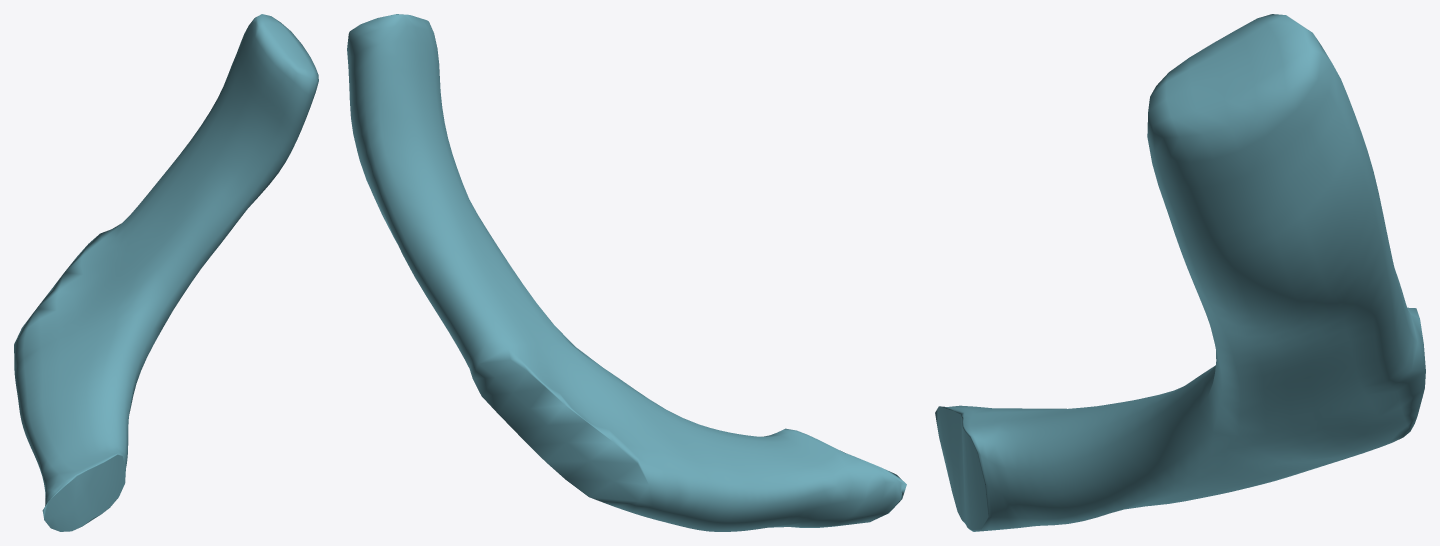
3 views of the same model, side by side, from view 1: azimuth 30°, elevation 25°; view 2: azimuth 150°, elevation 25°; view 3: azimuth 270°, elevation 25° (orthographic). The views are drawn at different scales.
Visible parts, largest first — view 1: 左侧第九肋软骨; view 2: 左侧第九肋软骨; view 3: 左侧第九肋软骨.
Part boxes in pixels (x1,y1,x2,y2): 左侧第九肋软骨: [14, 14, 318, 531]; 左侧第九肋软骨: [347, 14, 906, 531]; 左侧第九肋软骨: [935, 14, 1425, 531].
Size of the model in its own units: 0.0911 by 0.0983 by 0.058.
